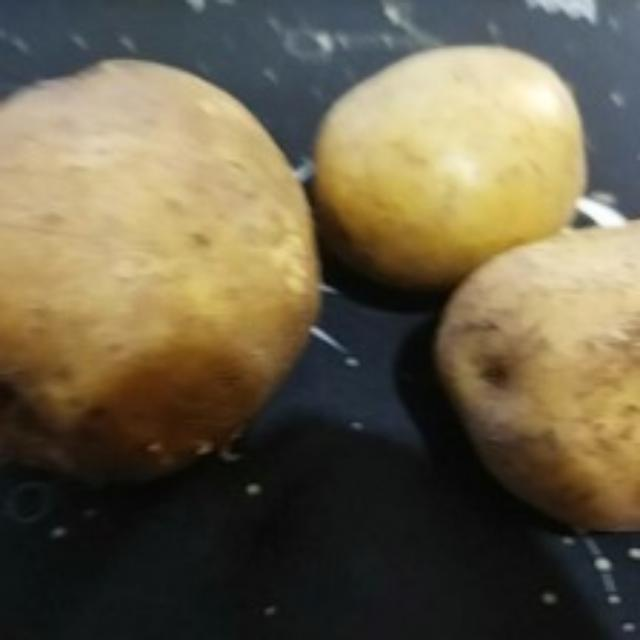Damaged potato: (0, 50, 326, 484), (432, 218, 640, 538)
Potato: (310, 41, 594, 292)
